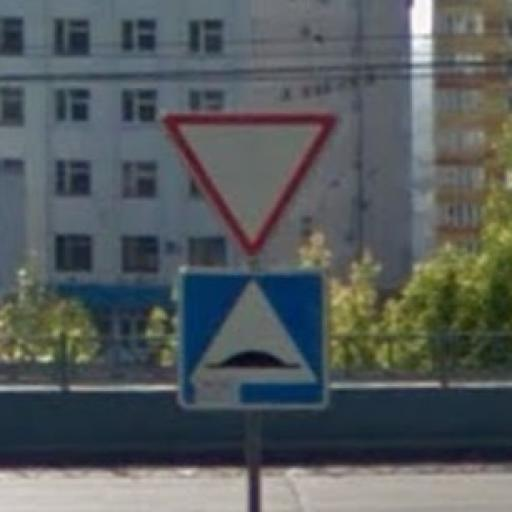traffic_sign: (161, 111, 341, 257), (178, 263, 331, 416)
